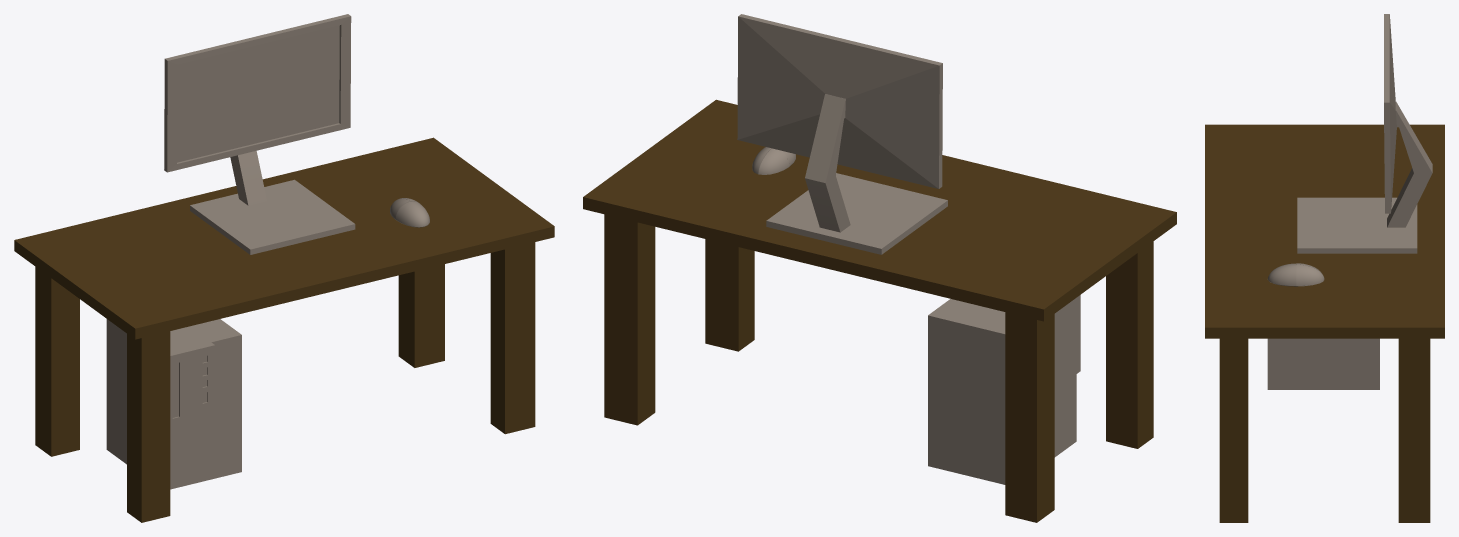
Rendered from Office Furniture.fbx.
The picture shows the model from 3 angles, left to right: view 1: azimuth 30°, elevation 25°; view 2: azimuth 150°, elevation 25°; view 3: azimuth 270°, elevation 25°; orthographic projection. The views are drawn at different scales.
Visible parts, largest first — view 1: Computer_Desk, Monitor, PC, Mouse; view 2: Computer_Desk, Monitor, PC, Mouse; view 3: Computer_Desk, Monitor, PC, Mouse.
Part boxes in pixels (x1=…): Computer_Desk: x1=14, y1=137, x2=554, y2=522; Monitor: x1=164, y1=14, x2=355, y2=254; PC: x1=106, y1=319, x2=241, y2=489; Mouse: x1=390, y1=198, x2=429, y2=227; Computer_Desk: x1=583, y1=99, x2=1176, y2=522; Monitor: x1=737, y1=14, x2=947, y2=254; PC: x1=928, y1=295, x2=1080, y2=484; Mouse: x1=752, y1=147, x2=795, y2=174; Computer_Desk: x1=1205, y1=124, x2=1444, y2=522; Monitor: x1=1297, y1=14, x2=1432, y2=253; PC: x1=1267, y1=338, x2=1379, y2=389; Mouse: x1=1267, y1=263, x2=1324, y2=286.
Size of the model in its own units: 4 by 3.41 by 2.
